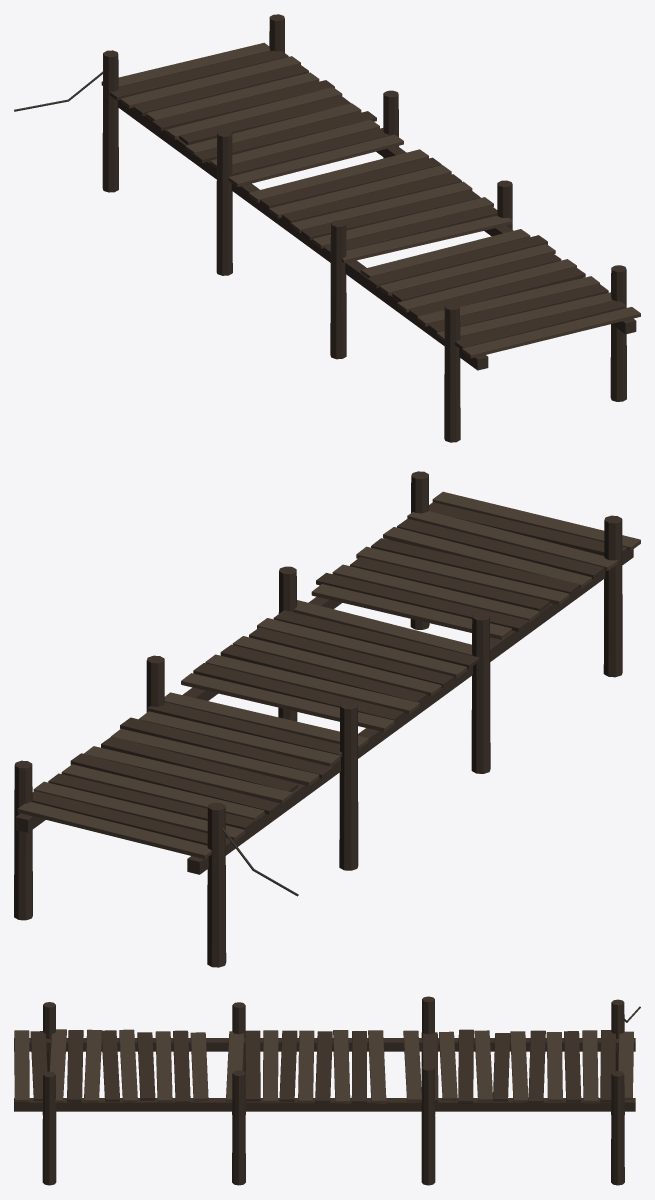
The model's file is SM_ENV_Doca.fbx.
The picture shows the model from 3 angles, top to bottom: view 1: azimuth 30°, elevation 25°; view 2: azimuth 150°, elevation 25°; view 3: azimuth 270°, elevation 25°; orthographic projection. The views are drawn at different scales.
Visible parts, largest first — view 1: SM_ENV_Doca; view 2: SM_ENV_Doca; view 3: SM_ENV_Doca.
Boxes of the visible parts, bbox=[...] form: SM_ENV_Doca: bbox=[14, 14, 640, 442]; SM_ENV_Doca: bbox=[14, 471, 640, 967]; SM_ENV_Doca: bbox=[14, 996, 640, 1185].
Size of the model in its own units: 2.78 by 1.44 by 7.06.
